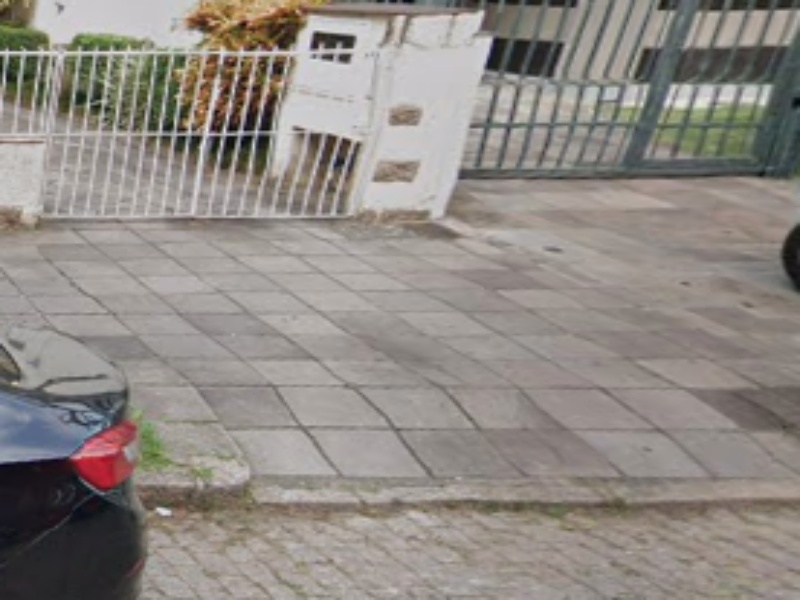v5: (231, 408, 796, 536)
